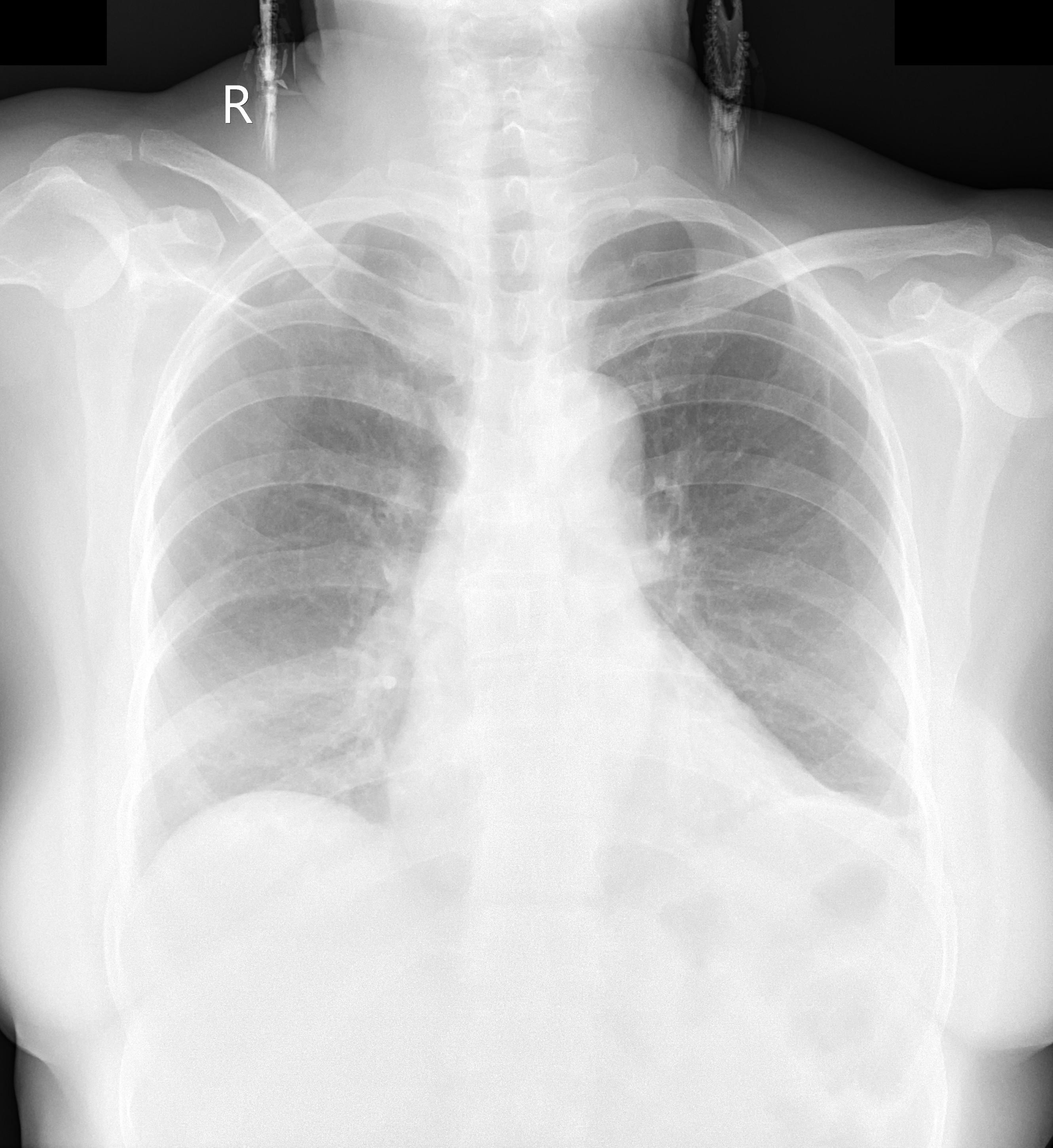Aortic enlargement: (522, 366, 644, 479)
Pulmonary fibrosis: (882, 808, 926, 828)
